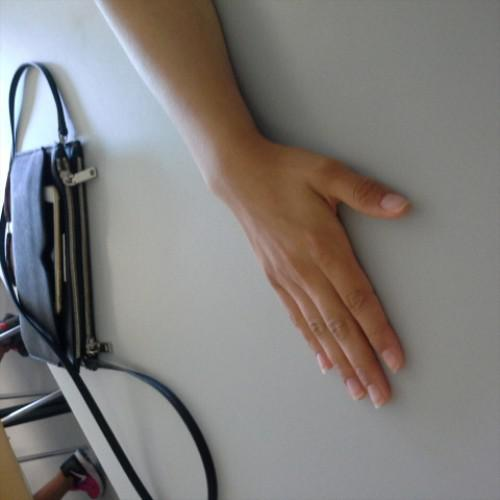paper: (202, 137, 424, 415)
